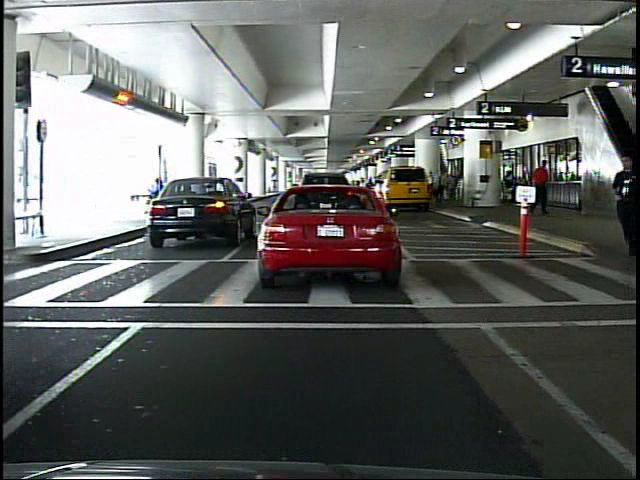person: (608, 156, 637, 257), (530, 159, 550, 216), (424, 166, 437, 202)
